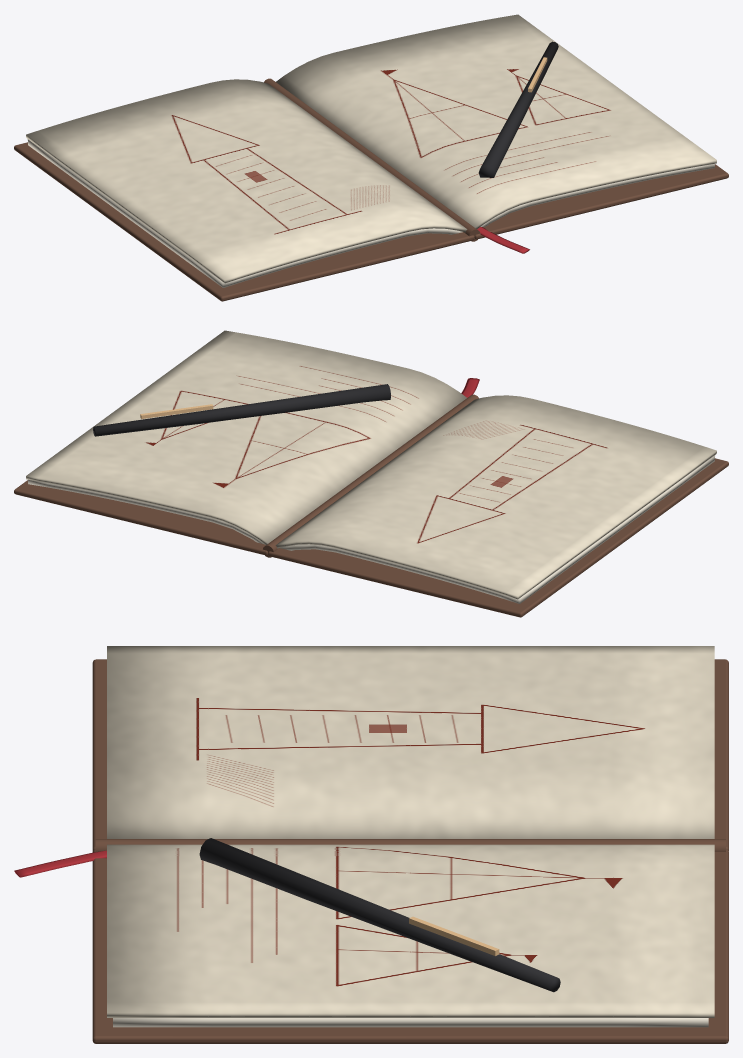
The model's file is studio_notebook.glb.
3 renders of one model, top to bottom at view 1: azimuth 30°, elevation 25°; view 2: azimuth 150°, elevation 25°; view 3: azimuth 270°, elevation 25°, orthographic. The views are drawn at different scales.
Visible parts, largest first — view 1: NOTE_Page_R_Sheet, NOTE_Page_L_Sheet, NOTE_Cover_Back_Board, NOTE_Cover_Front_Board, NOTE_PageBlock_L_Mesh, NOTE_Pen, NOTE_Spine, NOTE_PageBlock_R_Mesh; view 2: NOTE_Page_L_Sheet, NOTE_Page_R_Sheet, NOTE_Cover_Back_Board, NOTE_Cover_Front_Board, NOTE_Pen, NOTE_PageBlock_L_Mesh, NOTE_Spine, NOTE_PageBlock_R_Mesh; view 3: NOTE_Page_L_Sheet, NOTE_Page_R_Sheet, NOTE_Cover_Front_Board, NOTE_Pen, NOTE_PageBlock_R_Mesh, NOTE_Cover_Back_Board, NOTE_Spine, NOTE_Pen_Clip, NOTE_Bookmark.
Boxes of the visible parts, left/top/right/bottom form: NOTE_Page_R_Sheet: left=276, top=14, right=716, bottom=228; NOTE_Page_L_Sheet: left=26, top=79, right=467, bottom=283; NOTE_Cover_Back_Board: left=14, top=142, right=474, bottom=301; NOTE_Cover_Front_Board: left=474, top=164, right=728, bottom=239; NOTE_PageBlock_L_Mesh: left=27, top=139, right=462, bottom=287; NOTE_Pen: left=478, top=41, right=558, bottom=177; NOTE_Spine: left=264, top=78, right=479, bottom=241; NOTE_PageBlock_R_Mesh: left=480, top=164, right=714, bottom=226; NOTE_Page_L_Sheet: left=275, top=395, right=716, bottom=599; NOTE_Page_R_Sheet: left=26, top=330, right=466, bottom=544; NOTE_Cover_Back_Board: left=268, top=458, right=728, bottom=617; NOTE_Cover_Front_Board: left=14, top=480, right=268, bottom=555; NOTE_Pen: left=93, top=384, right=390, bottom=436; NOTE_PageBlock_L_Mesh: left=280, top=455, right=715, bottom=603; NOTE_Spine: left=263, top=394, right=478, bottom=557; NOTE_PageBlock_R_Mesh: left=28, top=480, right=263, bottom=543; NOTE_Page_L_Sheet: left=107, top=646, right=714, bottom=838; NOTE_Page_R_Sheet: left=107, top=844, right=714, bottom=1017; NOTE_Cover_Front_Board: left=92, top=849, right=728, bottom=1043; NOTE_Pen: left=199, top=838, right=560, bottom=992; NOTE_PageBlock_R_Mesh: left=113, top=1018, right=708, bottom=1027; NOTE_Cover_Back_Board: left=92, top=659, right=728, bottom=851; NOTE_Spine: left=95, top=839, right=725, bottom=851; NOTE_Pen_Clip: left=409, top=916, right=499, bottom=955; NOTE_Bookmark: left=14, top=850, right=106, bottom=877.
Bounding box in the file's own units: 0.31 × 0.0229 × 0.2472.
6 materials, 1 textured.
